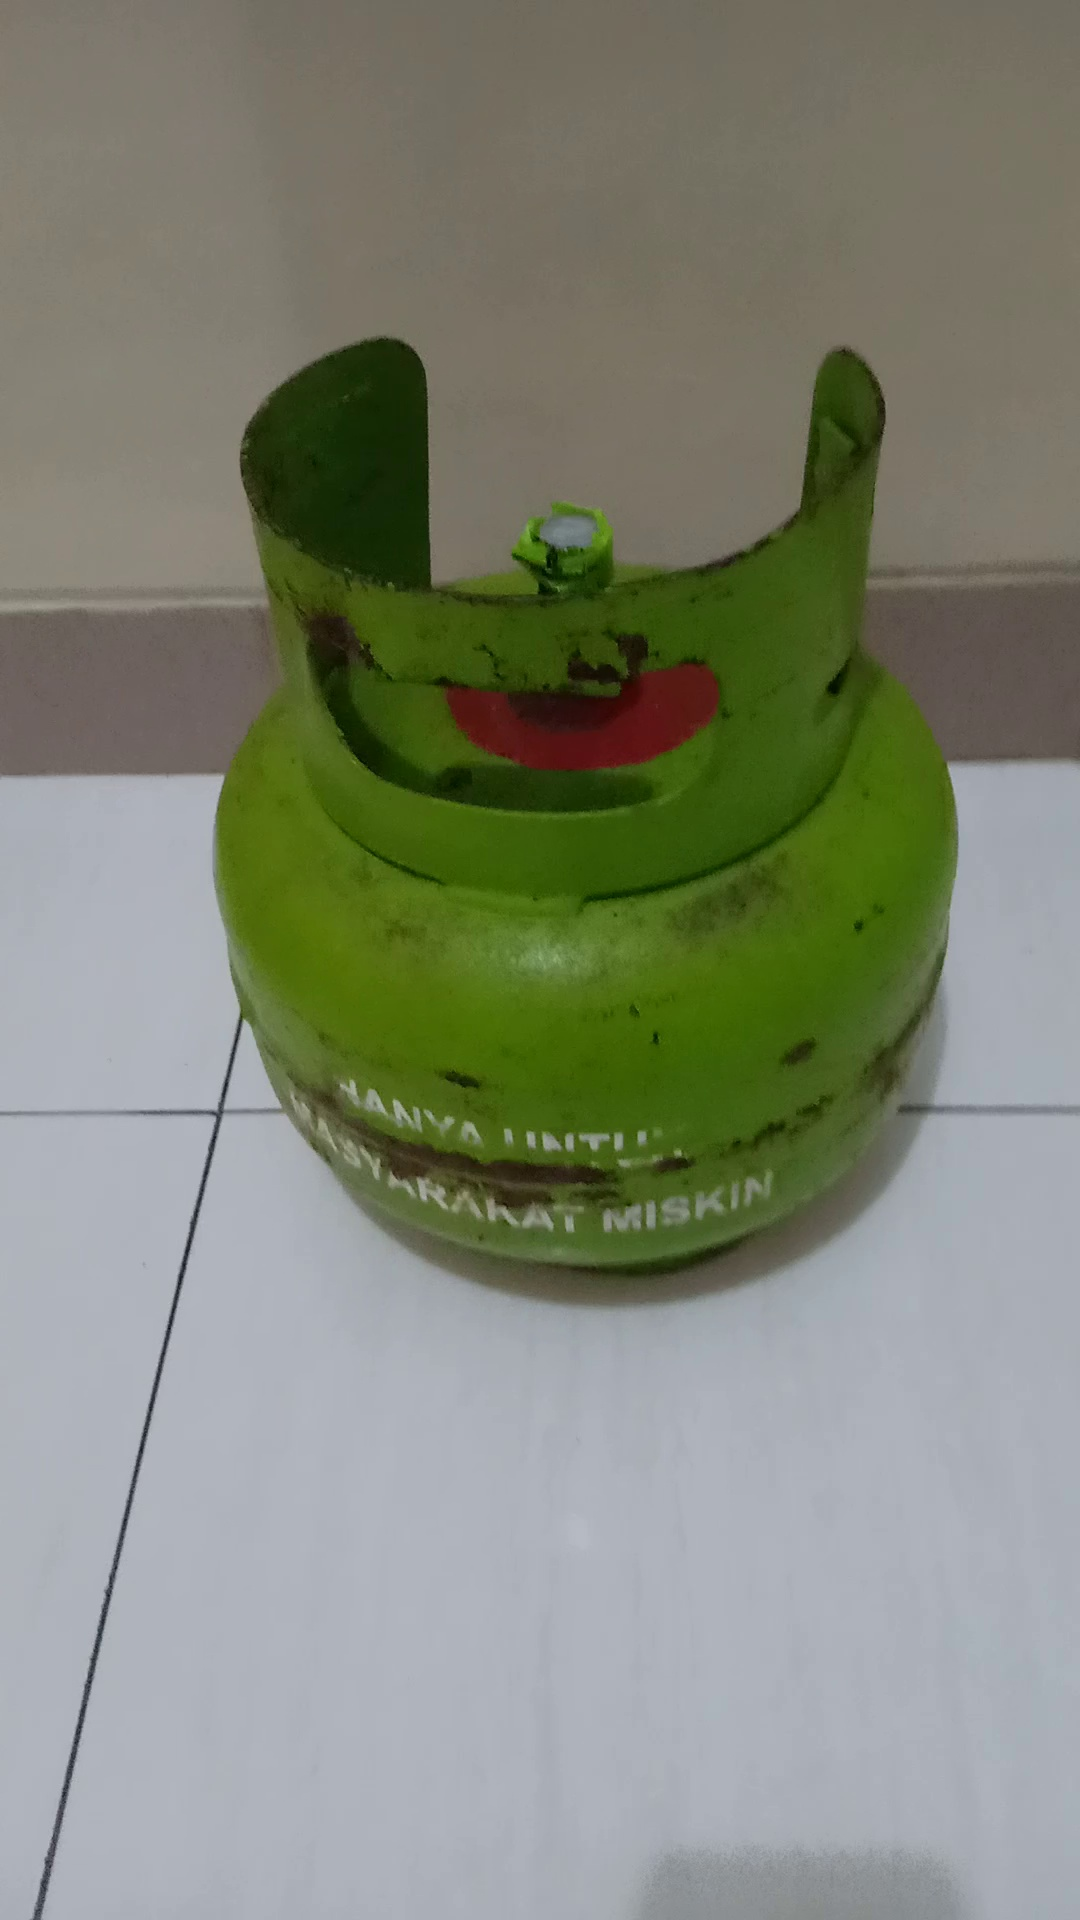gas_ijo: (208, 331, 968, 1291)
